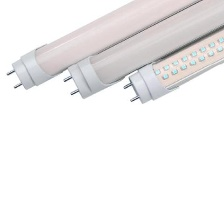light_bulb: (3, 0, 217, 94), (60, 0, 224, 101), (119, 23, 223, 104)
